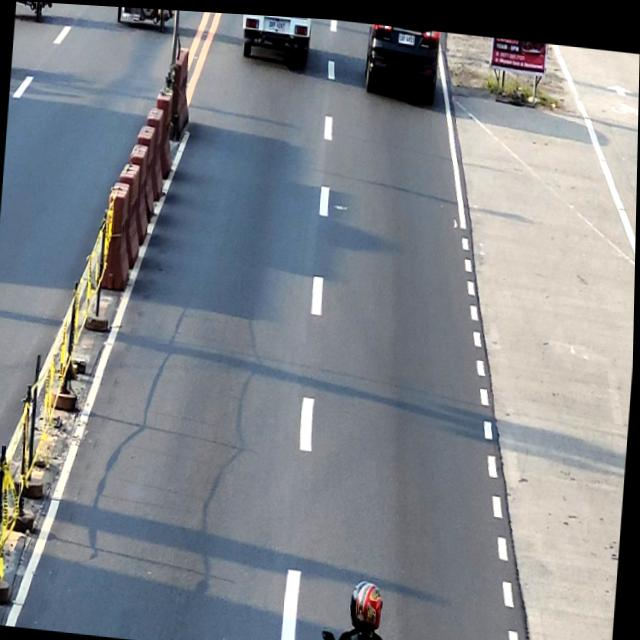Car: (363, 19, 440, 103), (239, 11, 311, 61)
License-Plate: (268, 16, 284, 28), (398, 29, 415, 40)
Tricycle: (114, 5, 173, 32), (15, 1, 50, 19)
